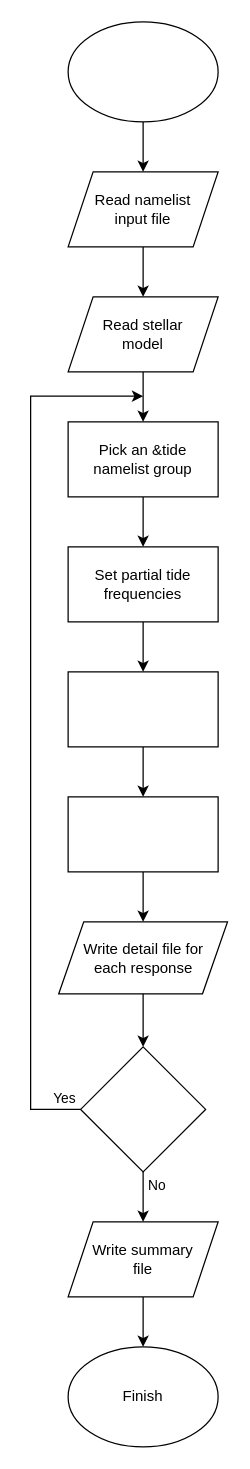
The diagram is 250 pixels wide and 1469 high, and some of its shapes have lost their labels. The centre of each missing label's shape, as x and y in pixels:
"Construct spatial grid" goes at point (142, 709).
"More &tide groups?" goes at point (142, 1109).
"Solve for partial tide responses" goes at point (142, 834).
"Start" goes at point (142, 71).
